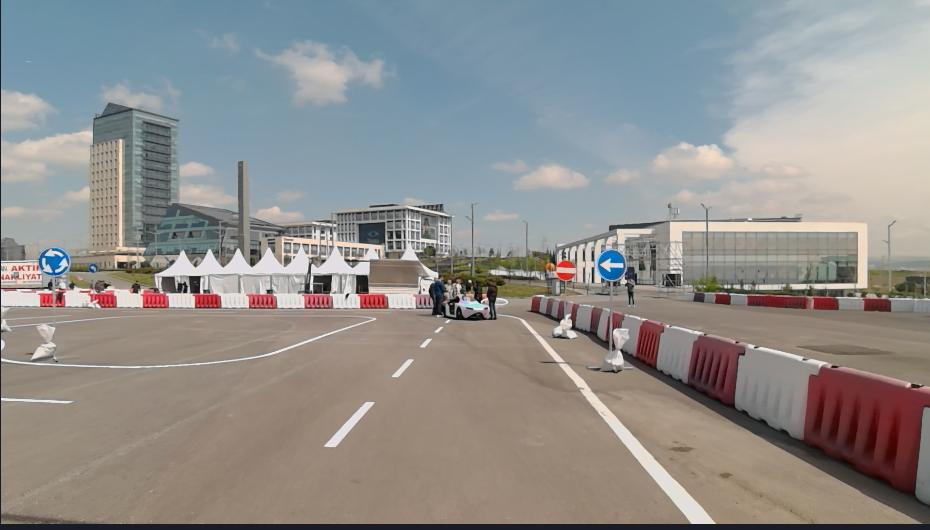nesne: (0, 304, 720, 528), (0, 306, 457, 529), (248, 312, 717, 524), (613, 313, 930, 506), (501, 311, 716, 522), (1, 312, 376, 368), (800, 364, 923, 499), (731, 345, 816, 444), (94, 290, 431, 307), (684, 332, 742, 405), (323, 397, 376, 447), (654, 324, 697, 385), (816, 294, 929, 316), (675, 289, 801, 308), (369, 258, 434, 293), (915, 388, 930, 501), (634, 320, 662, 368), (442, 294, 489, 320), (1, 260, 43, 289), (32, 323, 60, 358), (0, 393, 74, 406), (606, 326, 628, 369), (597, 249, 627, 278), (744, 293, 802, 308), (427, 273, 447, 316), (620, 313, 640, 356), (40, 248, 70, 274), (889, 296, 928, 313), (483, 279, 497, 320), (0, 291, 38, 306), (389, 356, 415, 377), (594, 306, 609, 341), (331, 292, 361, 309), (575, 302, 592, 332), (553, 316, 576, 338), (359, 292, 388, 309), (444, 276, 467, 297), (167, 292, 195, 308), (115, 291, 142, 307), (556, 260, 577, 279), (588, 304, 600, 337), (194, 294, 221, 308), (221, 294, 248, 308), (142, 292, 167, 307), (247, 295, 275, 308), (303, 294, 331, 307), (386, 295, 414, 308), (64, 290, 88, 305), (276, 295, 304, 307), (608, 278, 612, 357), (804, 283, 816, 309), (837, 298, 865, 309), (562, 279, 570, 317), (93, 293, 115, 306), (1, 307, 14, 329), (862, 298, 888, 309), (626, 275, 635, 304), (412, 294, 432, 307), (536, 294, 548, 315), (815, 296, 836, 308), (612, 312, 624, 332), (52, 274, 56, 328), (465, 275, 475, 296), (548, 297, 558, 318), (472, 278, 481, 301), (728, 293, 746, 304), (38, 292, 51, 306), (130, 278, 144, 291), (570, 302, 576, 329), (555, 300, 563, 320), (679, 292, 694, 302), (714, 294, 729, 304), (56, 292, 65, 308), (531, 295, 540, 310), (545, 296, 552, 315), (92, 272, 96, 301), (89, 261, 99, 272), (704, 293, 715, 302), (46, 276, 52, 292), (693, 293, 704, 301), (88, 300, 100, 307)
